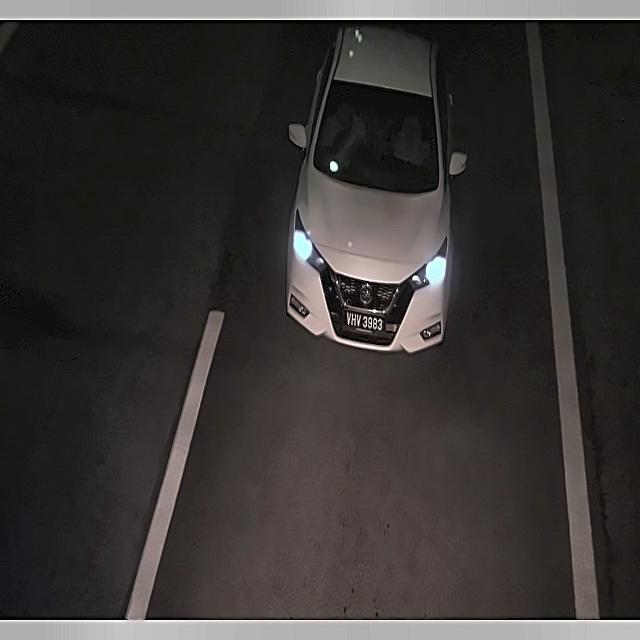car: (341, 299, 388, 341)
